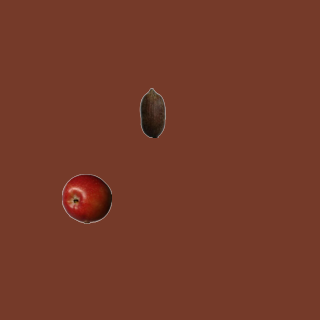Apple Braeburn: (61, 173, 111, 223)
Nut Pecan: (127, 87, 177, 137)
